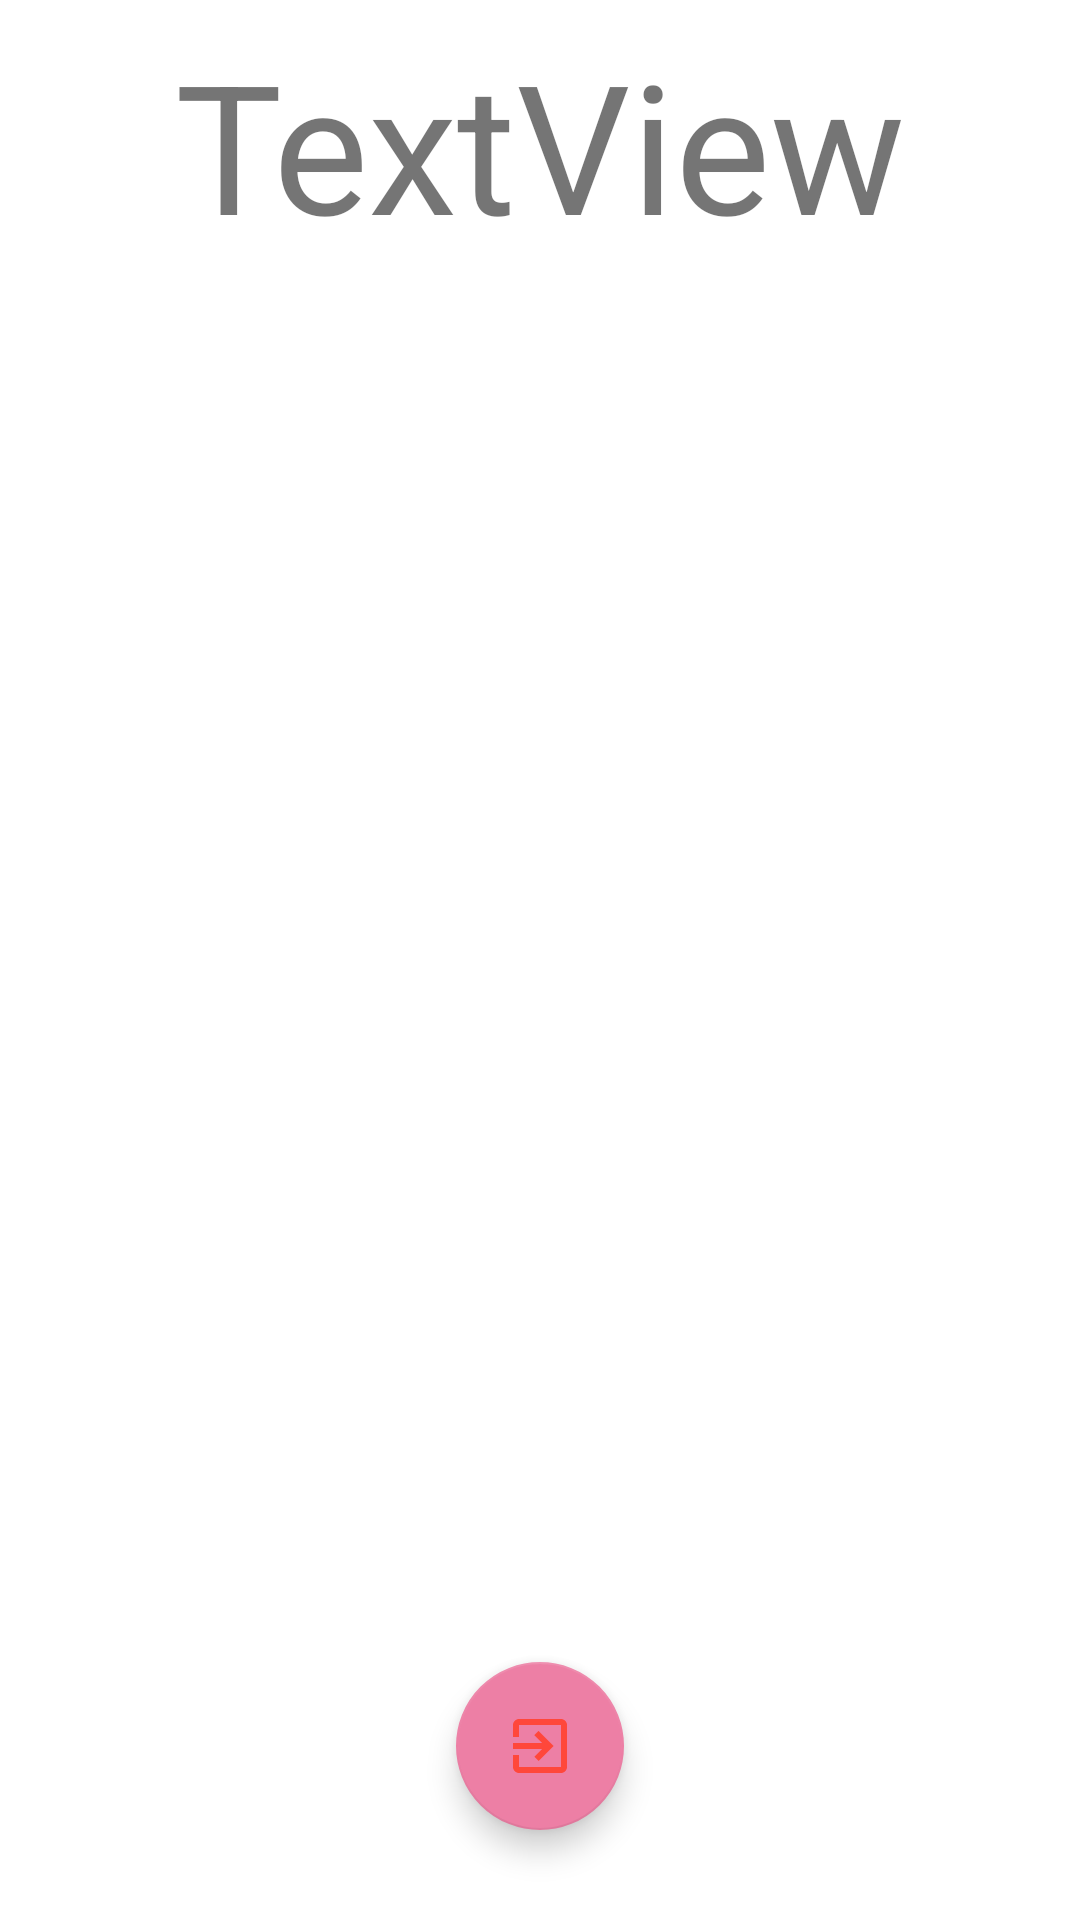

Icons on this 1080*1920 Android screen, each with the point to tap as (x,y):
quit challenge: (540,1746)
